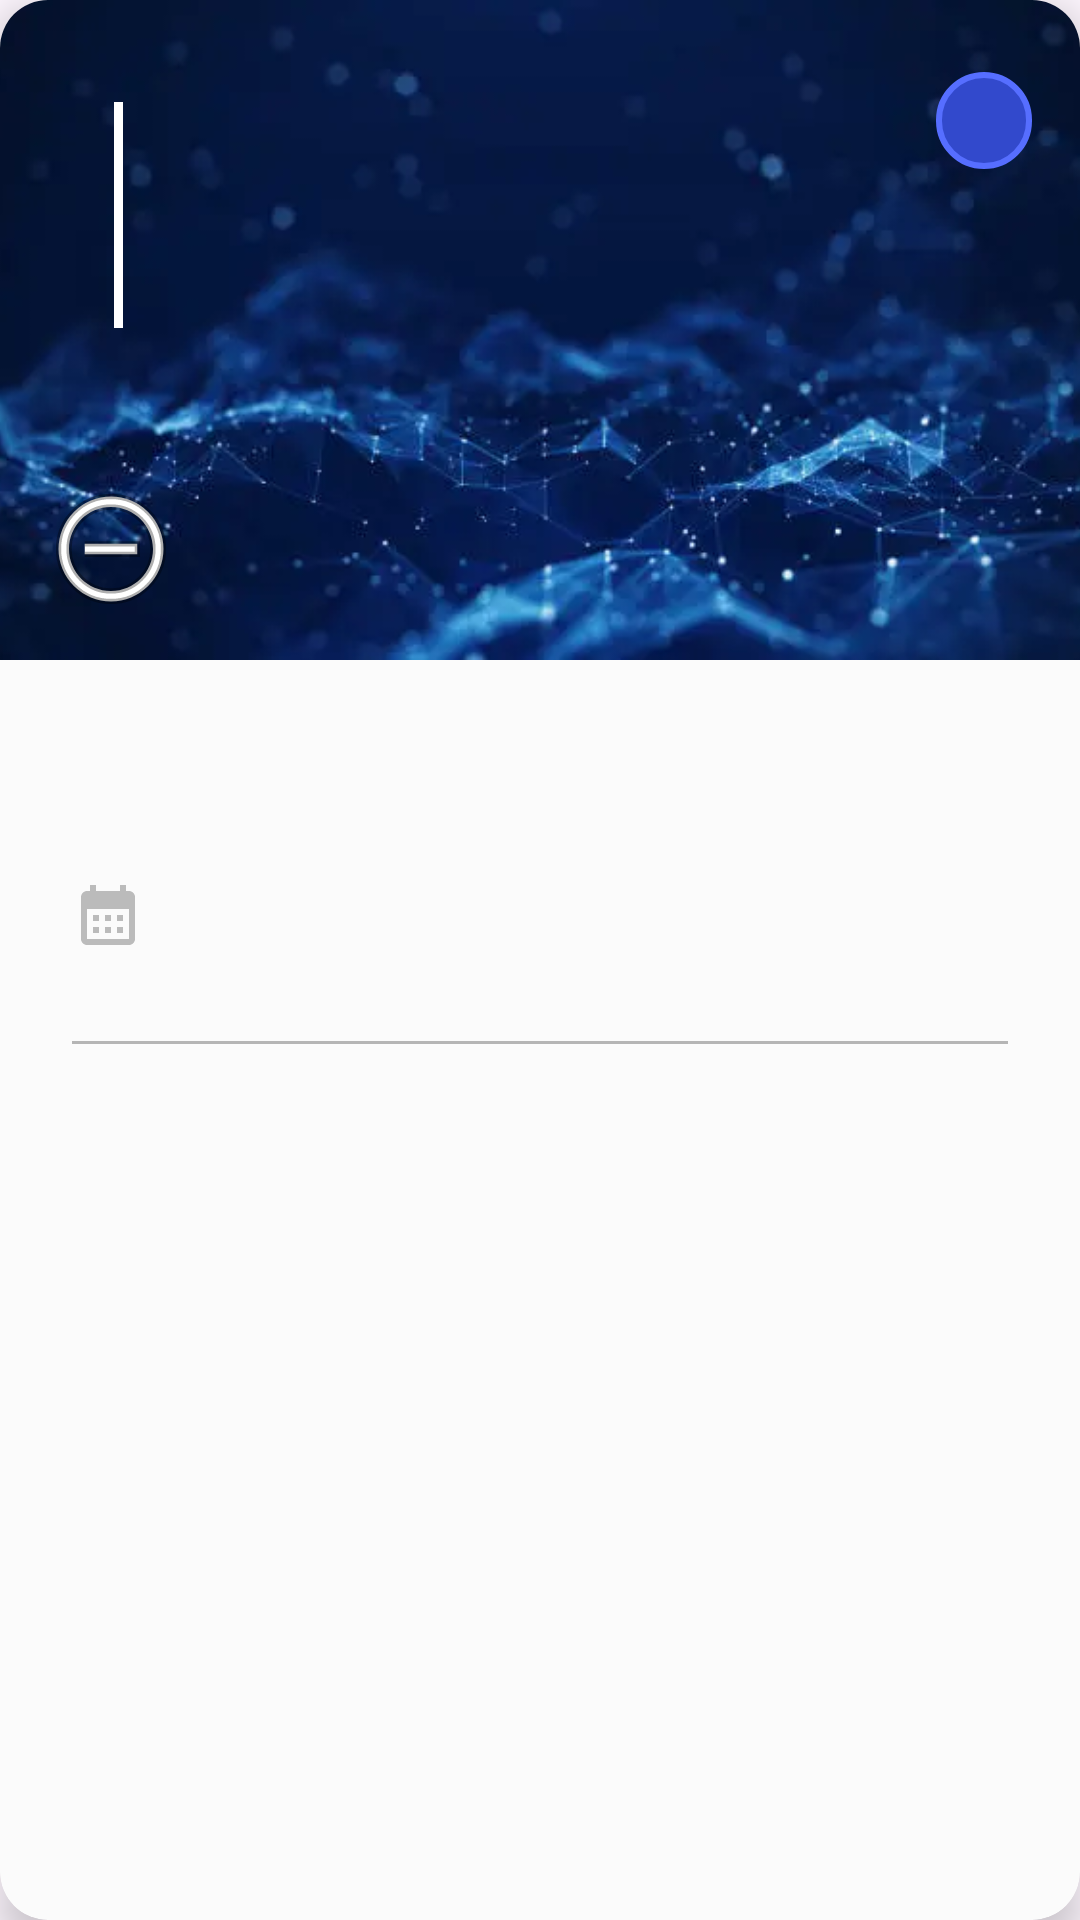

Locate icon controls on the screen. Image size 1080x1920, boxes as detection(x1, y1, x2, y2).
minus circle: detection(48, 486, 174, 602)
